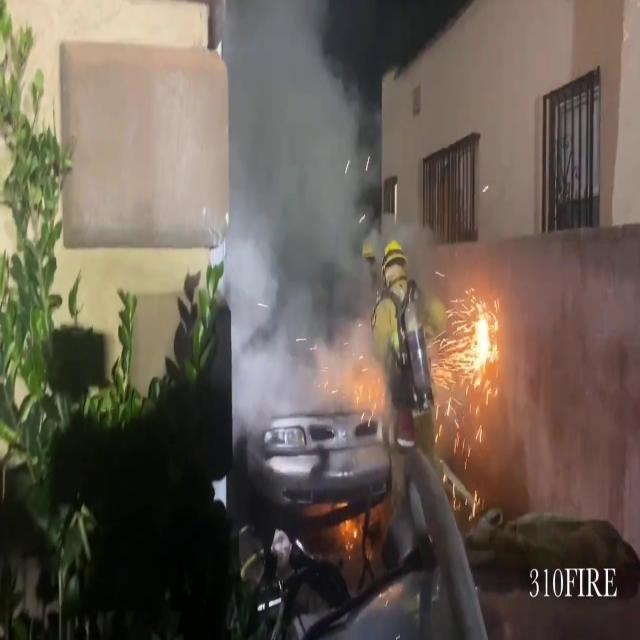Fire: (464, 292, 502, 386)
Smoke: (226, 1, 384, 417), (476, 186, 640, 530)
